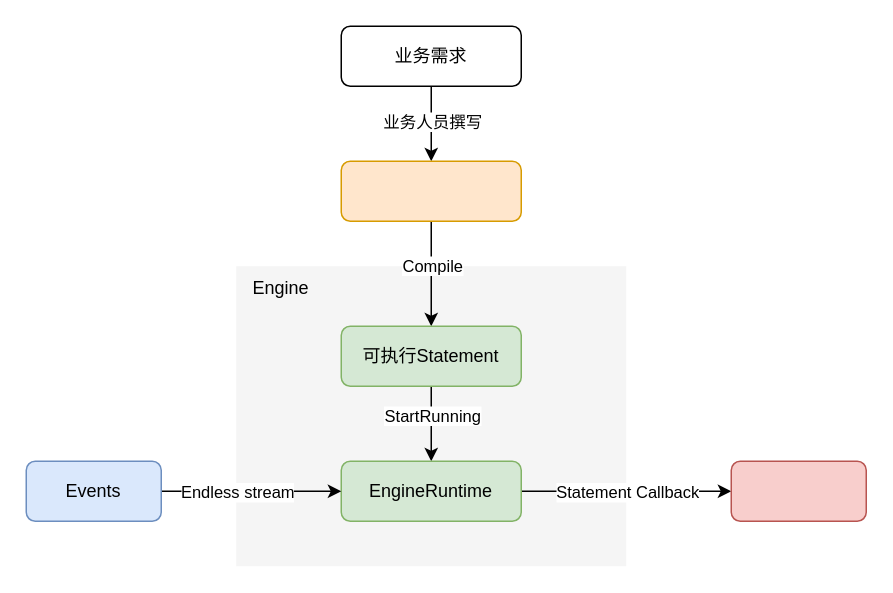
The diagram is 893 pixels wide and 593 high, and some of its shapes have lost their labels. The shapes that lost their labels are listed below. From the top down, each one's centre as x and y in pixels, then its label:
At pixel 430 190: "DSL/规则".
At pixel 798 490: "Alarms".
